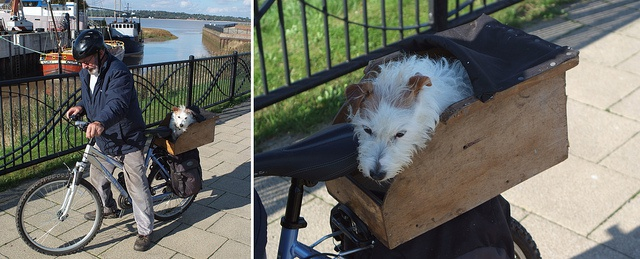non-vehicle: (250, 121, 544, 258), (12, 118, 197, 254)
